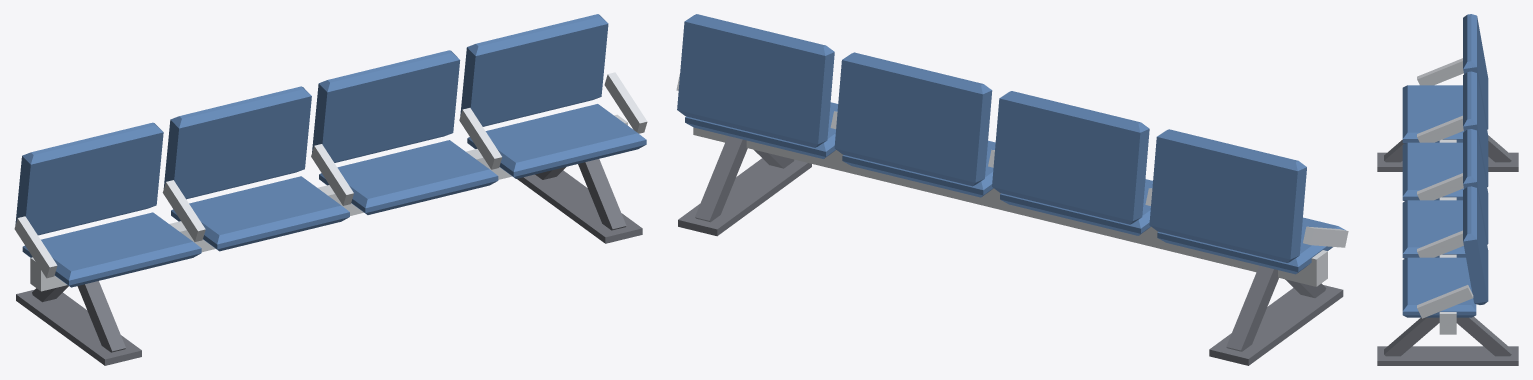
File: airport-terminal-and-ground-operations-gate-seating-ro-3acd8edd__26040.glb
3 views of the same model, side by side, from view 1: azimuth 30°, elevation 25°; view 2: azimuth 150°, elevation 25°; view 3: azimuth 270°, elevation 25° (orthographic). The views are drawn at different scales.
Visible parts, largest first — view 1: gate-seating-row; view 2: gate-seating-row; view 3: gate-seating-row.
Part boxes in pixels (x1=…): gate-seating-row: x1=14, y1=14, x2=647, y2=365; gate-seating-row: x1=676, y1=14, x2=1348, y2=365; gate-seating-row: x1=1377, y1=14, x2=1518, y2=365.
Size of the model in its own units: 3.87 by 1.09 by 1.
